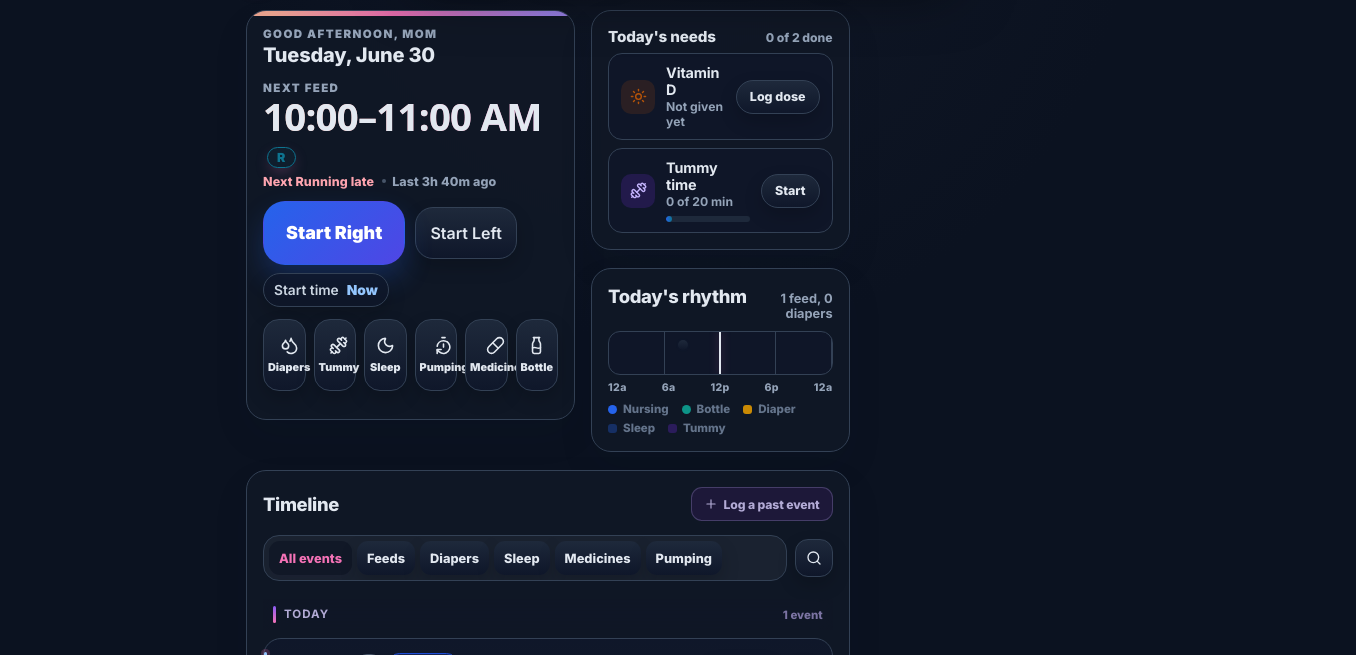
Test: reaching back through history › reports an empty day rather than an empty timeline
# Search and jump-to-date live behind the magnifier now.
Click the button named "Search and jump to a date" at (814, 558), box [795,539,833,577]
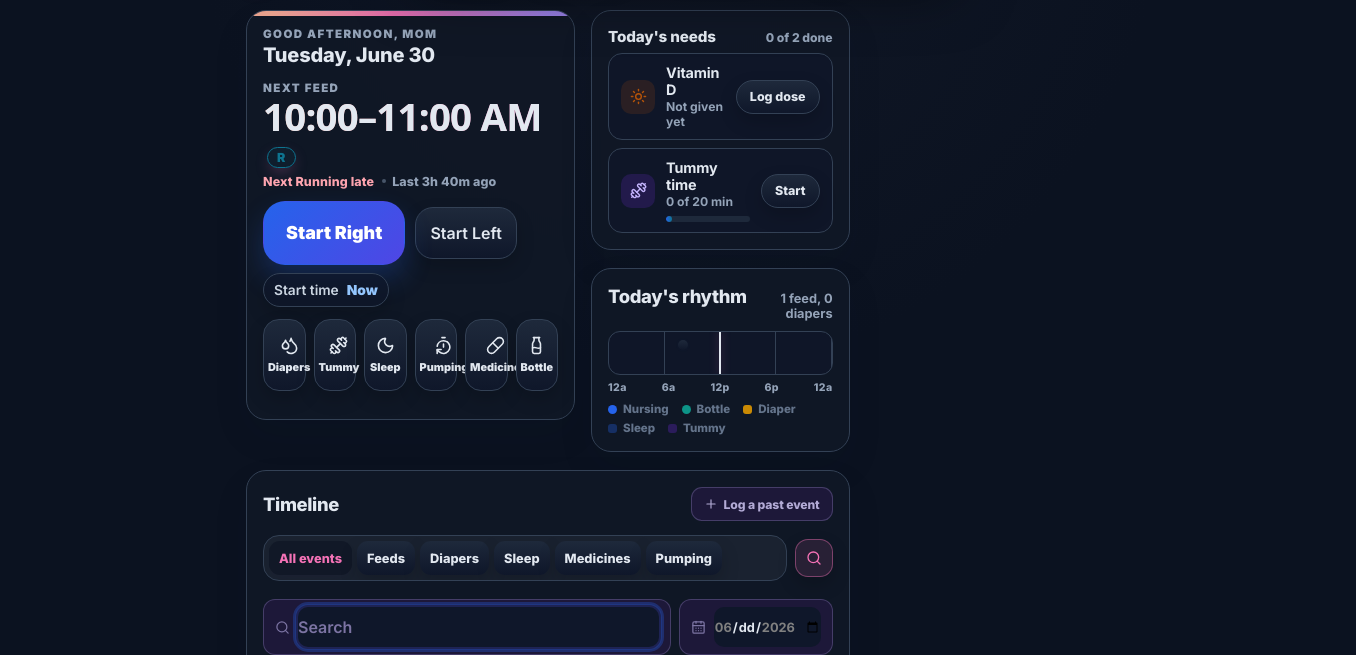
Type "2026-06-14" into the date field named "Jump to date" at (767, 627), box [714,607,821,647]
(page scrolled)
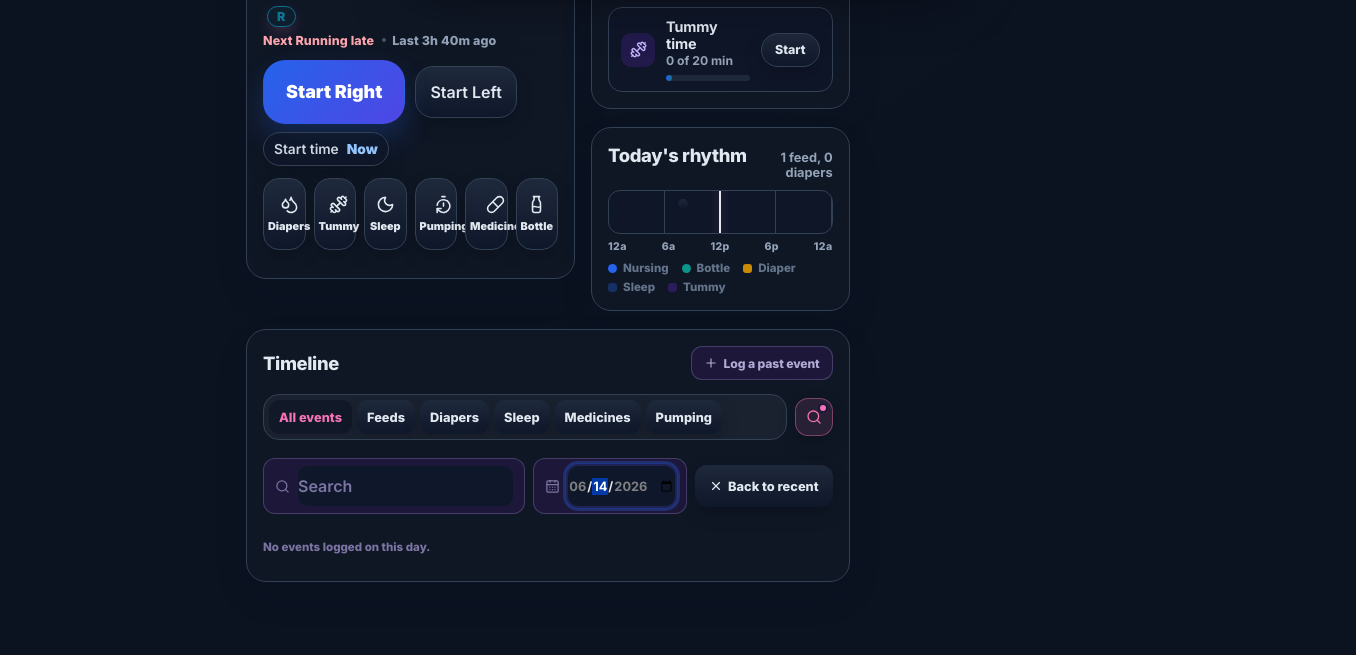
Check: the text "No events logged on this day." is shown, box [263,540,430,554]
